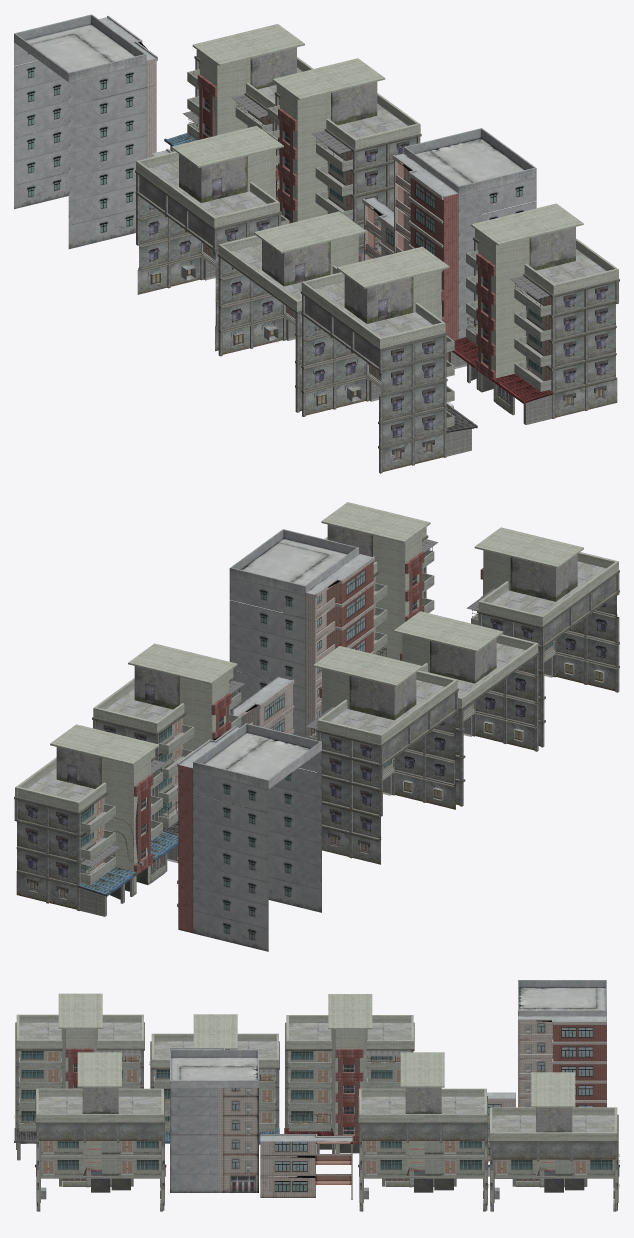
File: apartments.glb
The picture shows the model from 3 angles, top to bottom: view 1: azimuth 30°, elevation 25°; view 2: azimuth 150°, elevation 25°; view 3: azimuth 270°, elevation 25°; orthographic projection. The views are drawn at different scales.
Size of the model in its own units: 32.87 by 21.69 by 83.23.
Materials: 13 (13 with a texture image).
